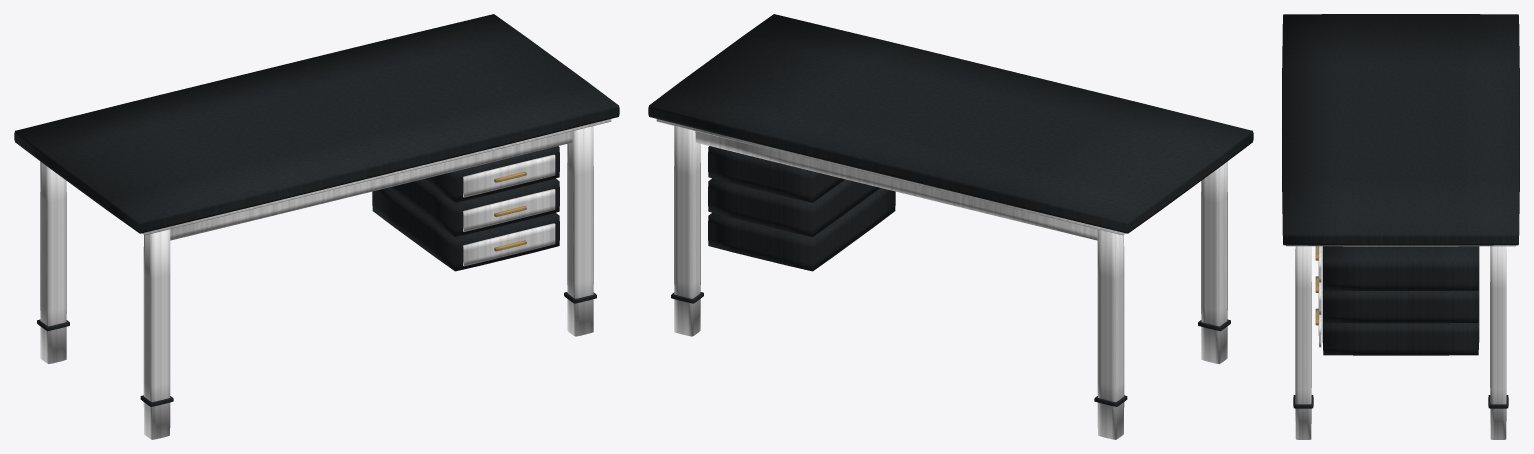
File: desk.glb
The picture shows the model from 3 angles, left to right: view 1: azimuth 30°, elevation 25°; view 2: azimuth 150°, elevation 25°; view 3: azimuth 270°, elevation 25°; orthographic projection. The views are drawn at different scales.
Visible parts, largest first — view 1: BeveledTop, TaperedLeg_-1_1, TaperedLeg_1_1, TaperedLeg_-1_-1, Apron1, Drawer0, Drawer1, Drawer2, DrawerInset2, DrawerInset0, DrawerInset1, TopMolding; view 2: BeveledTop, Drawer0, TaperedLeg_-1_-1, Drawer1, TaperedLeg_1_-1, TaperedLeg_-1_1, Apron-1, Drawer2, TopMolding; view 3: BeveledTop, Drawer2, Drawer0, Drawer1, TaperedLeg_1_-1, TaperedLeg_1_1, TopMolding.
Boxes of the visible parts, left/top/right/bottom form: BeveledTop: left=14, top=14, right=619, bottom=233; TaperedLeg_-1_1: left=143, top=229, right=170, bottom=439; TaperedLeg_1_1: left=567, top=126, right=593, bottom=336; TaperedLeg_-1_-1: left=40, top=161, right=66, bottom=363; Apron1: left=170, top=131, right=572, bottom=240; Drawer0: left=372, top=188, right=559, bottom=271; Drawer1: left=388, top=178, right=559, bottom=236; Drawer2: left=423, top=146, right=559, bottom=202; DrawerInset2: left=463, top=154, right=555, bottom=197; DrawerInset0: left=463, top=223, right=555, bottom=266; DrawerInset1: left=463, top=189, right=555, bottom=231; TopMolding: left=142, top=119, right=611, bottom=235; BeveledTop: left=648, top=14, right=1253, bottom=233; Drawer0: left=708, top=188, right=895, bottom=271; TaperedLeg_-1_-1: left=1097, top=229, right=1124, bottom=439; Drawer1: left=708, top=178, right=879, bottom=236; TaperedLeg_1_-1: left=674, top=126, right=700, bottom=336; TaperedLeg_-1_1: left=1201, top=161, right=1227, bottom=363; Apron-1: left=695, top=131, right=1097, bottom=240; Drawer2: left=708, top=146, right=844, bottom=202; TopMolding: left=656, top=119, right=1125, bottom=235; BeveledTop: left=1282, top=14, right=1519, bottom=245; Drawer2: left=1322, top=246, right=1479, bottom=290; Drawer0: left=1322, top=310, right=1479, bottom=355; Drawer1: left=1322, top=278, right=1479, bottom=323; TaperedLeg_1_-1: left=1490, top=246, right=1506, bottom=439; TaperedLeg_1_1: left=1295, top=246, right=1311, bottom=439; TopMolding: left=1286, top=245, right=1515, bottom=246.
Size of the model in its own units: 66 by 30 by 30.
3 materials, 2 textured.
